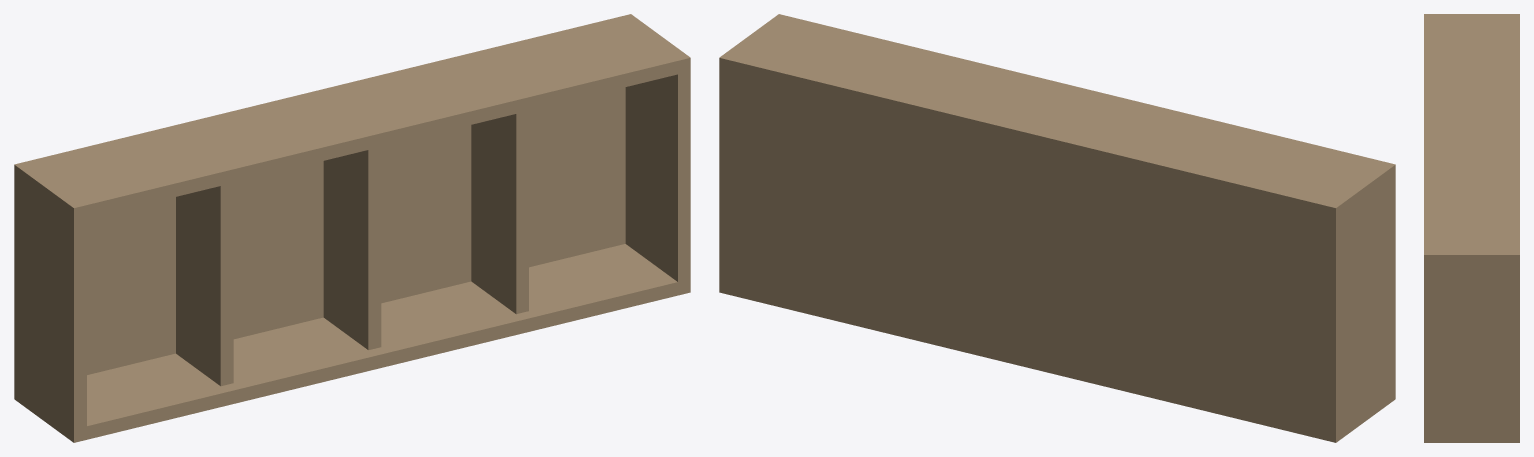
The model's file is vinyl_record_storage.glb.
3 renders of one model, left to right at view 1: azimuth 30°, elevation 25°; view 2: azimuth 150°, elevation 25°; view 3: azimuth 270°, elevation 25°, orthographic. The views are drawn at different scales.
Visible parts, largest first — view 1: bottom, back, front, side_left, side_right, divider_2, divider_1, divider_3; view 2: bottom, back, side_left, side_right; view 3: back, side_right, bottom, side_left.
Part boxes in pixels (bbox=[...]): bottom: bbox=[27, 17, 625, 374]; back: bbox=[35, 22, 677, 218]; front: bbox=[87, 244, 677, 439]; side_left: bbox=[14, 161, 86, 442]; side_right: bbox=[618, 14, 690, 295]; divider_2: bbox=[323, 147, 381, 350]; divider_1: bbox=[176, 183, 233, 386]; divider_3: bbox=[471, 111, 528, 314]; bottom: bbox=[732, 55, 1329, 439]; back: bbox=[740, 17, 1382, 199]; side_left: bbox=[1323, 161, 1395, 442]; side_right: bbox=[719, 14, 791, 295]; back: bbox=[1424, 19, 1507, 249]; side_right: bbox=[1424, 250, 1519, 442]; bottom: bbox=[1508, 19, 1519, 249]; side_left: bbox=[1424, 14, 1519, 18].
Size of the model in its own units: 35.75 by 13 by 6.
